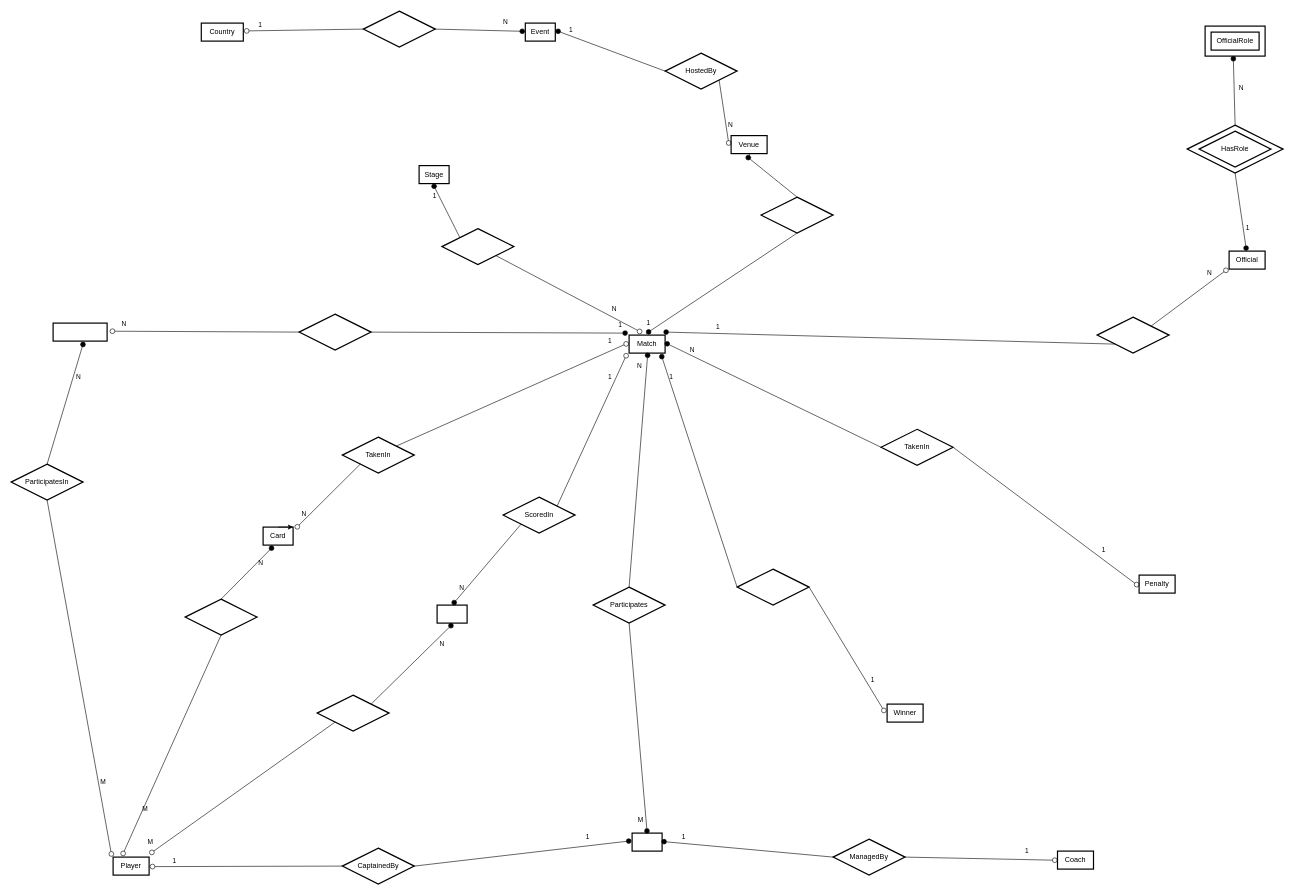
This 1294x895 diagram has some shape labels left out. The shapes that lost their labels are listed below. From the top down, each one's centre as x and y in pixels, then its label:
[399,28]: Hosts
[796,214]: PlayedAt
[477,246]: ConsistsOf
[79,331]: Substitution
[334,331]: SubstitutedIn
[1132,334]: OfficiatedBy
[772,586]: Determines
[220,616]: Receives
[451,613]: Goal
[352,712]: Scores
[646,841]: Team
